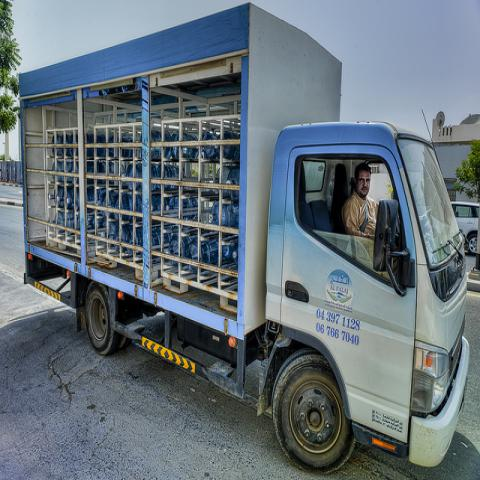car: (450, 200, 479, 255)
truck: (18, 1, 470, 471)
